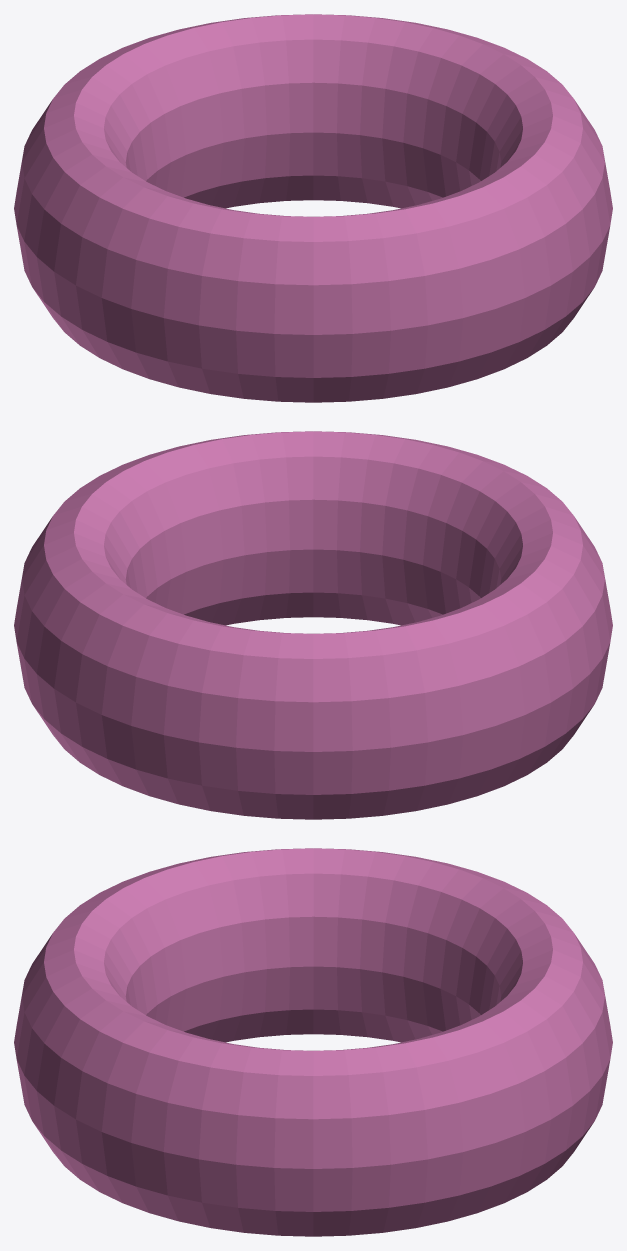
File: ring 1.fbx
The picture shows the model from 3 angles, top to bottom: view 1: azimuth 30°, elevation 25°; view 2: azimuth 150°, elevation 25°; view 3: azimuth 270°, elevation 25°; orthographic projection.
Parts seen in each view (by area): view 1: ring 1; view 2: ring 1; view 3: ring 1.
Part boxes in pixels (x1,y1,x2,y2): ring 1: (14, 14, 612, 402); ring 1: (14, 431, 612, 819); ring 1: (14, 848, 612, 1236).
Size of the model in its own units: 58.95 by 20.14 by 58.95.
